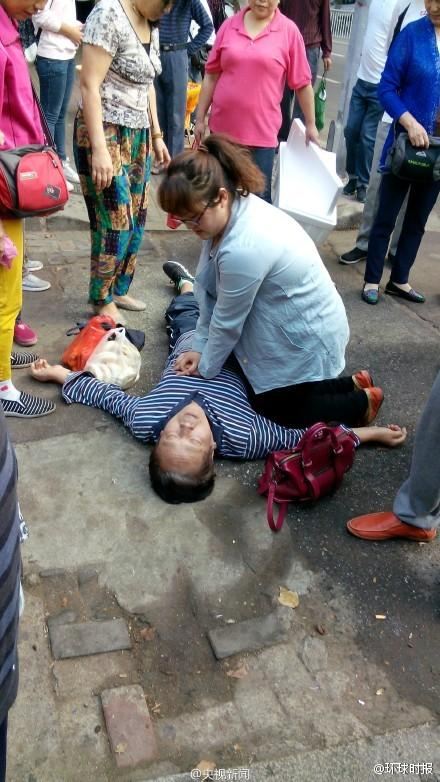fall: (40, 275, 408, 493)
